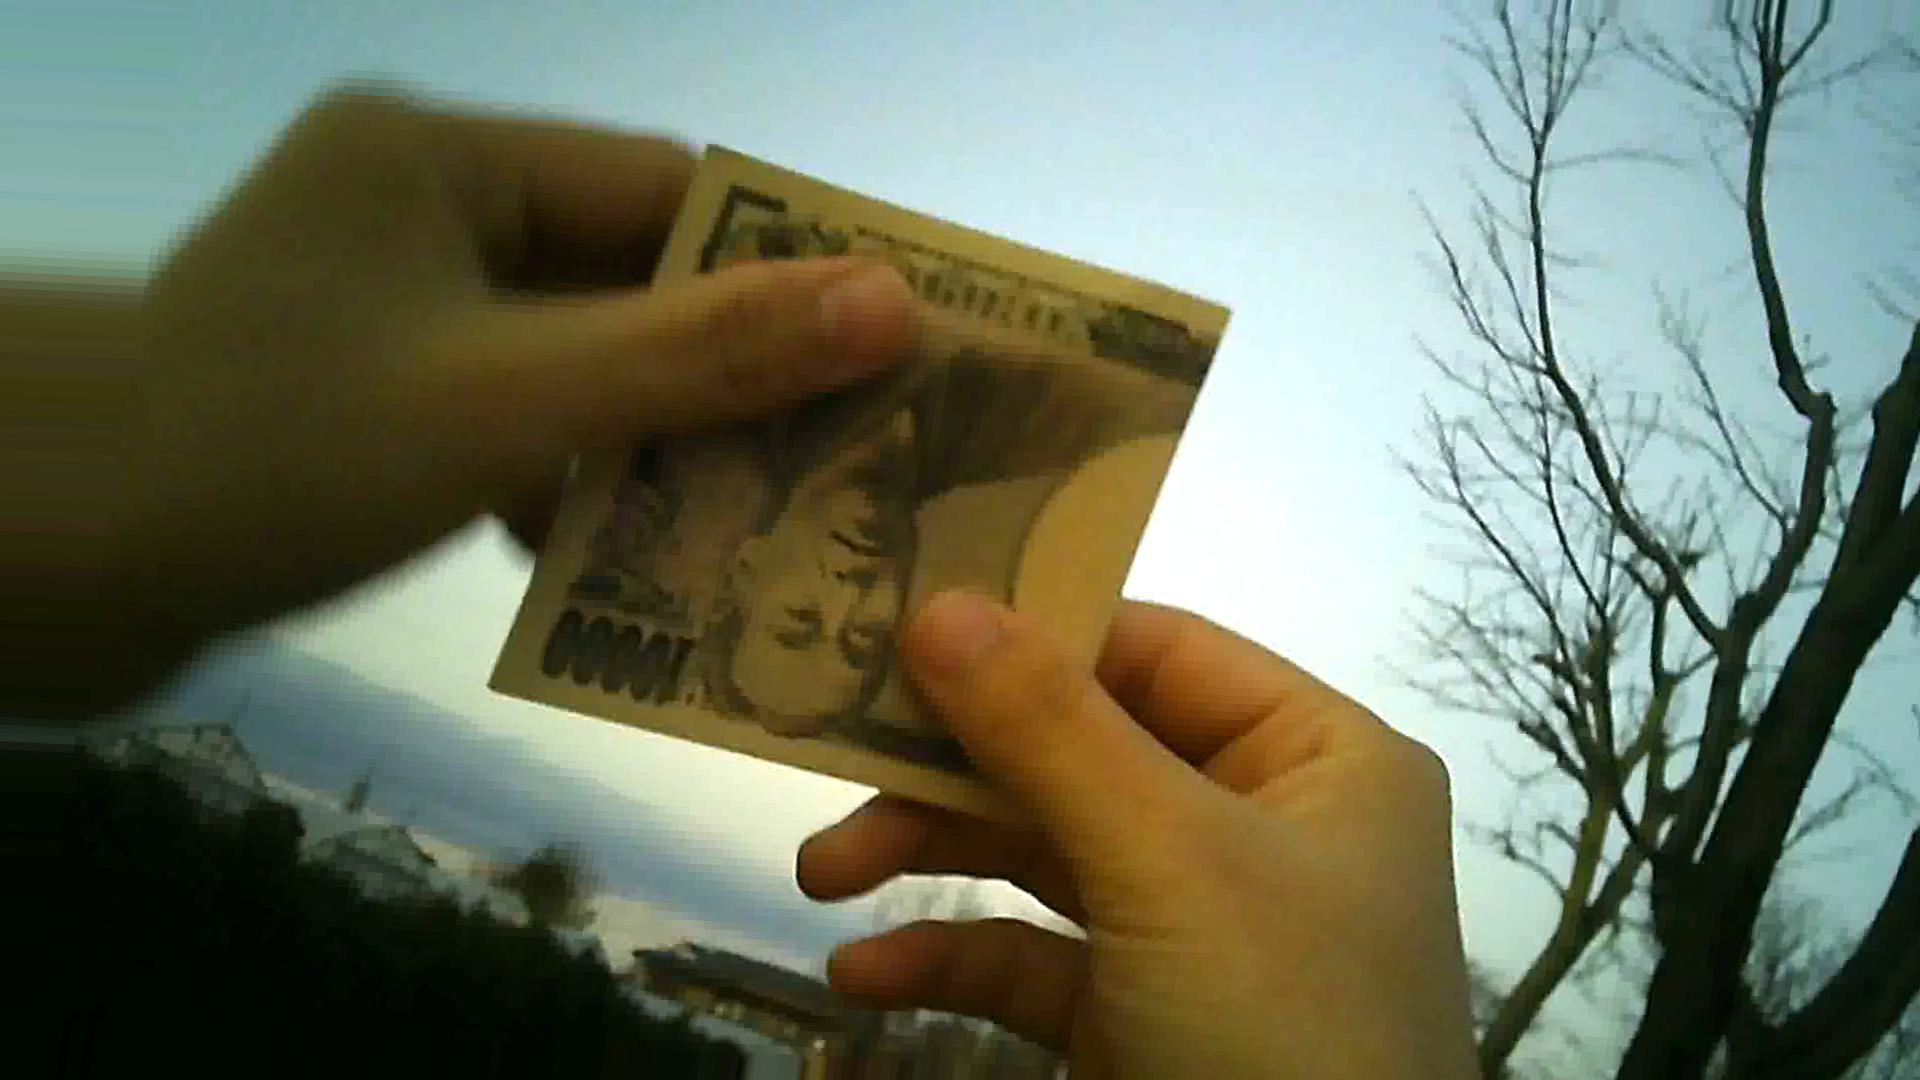10,000 Yen: (520, 142, 1211, 843)
